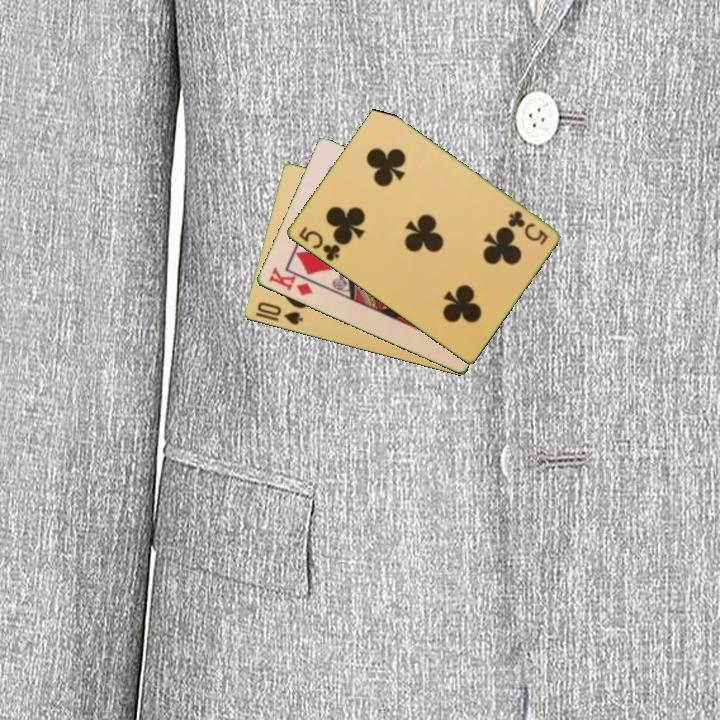10s: (253, 299, 306, 328)
5c: (295, 223, 343, 264), (504, 207, 551, 248)
Kd: (265, 263, 315, 299)
